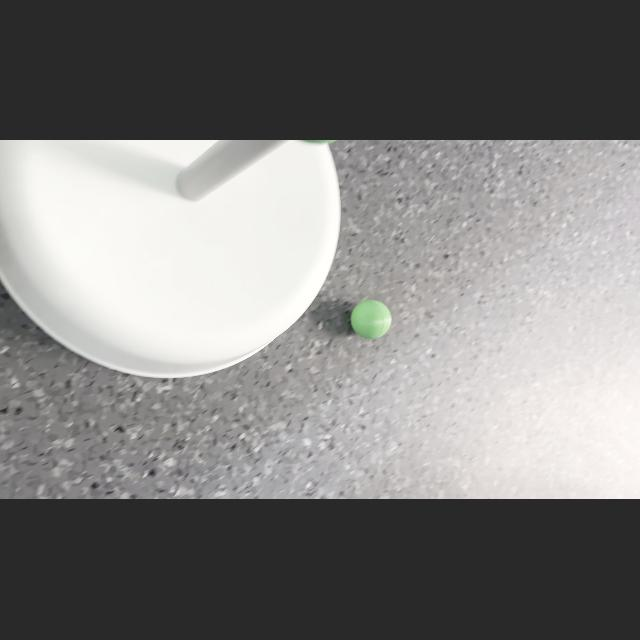objects: (347, 294, 397, 344)
